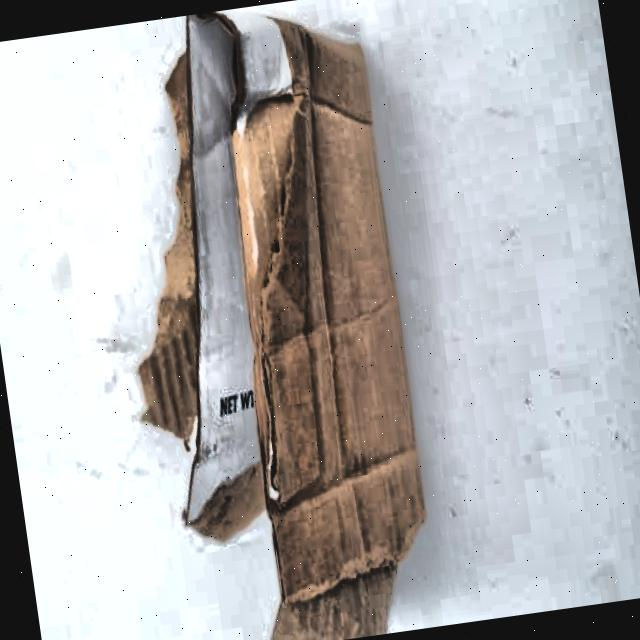cardboard: (90, 0, 444, 640)
